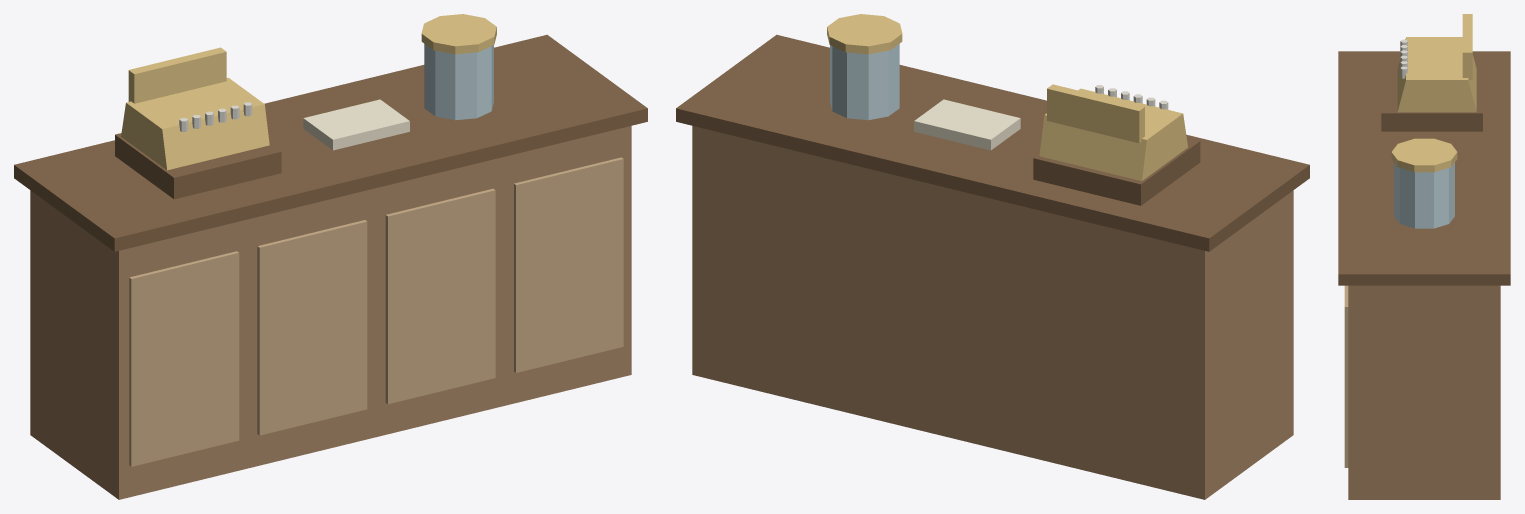
The model's file is SM_Store_Counter.glb.
3 views of the same model, side by side, from view 1: azimuth 30°, elevation 25°; view 2: azimuth 150°, elevation 25°; view 3: azimuth 270°, elevation 25° (orthographic). The views are drawn at different scales.
Visible parts, largest first — view 1: SM_Store_Counter; view 2: SM_Store_Counter; view 3: SM_Store_Counter.
Part boxes in pixels (<box>): SM_Store_Counter: <box>14,14,647,499</box>; SM_Store_Counter: <box>676,14,1309,499</box>; SM_Store_Counter: <box>1338,14,1510,499</box>.
Bounding box in the file's own units: 2.08 × 1.33 × 0.68.
